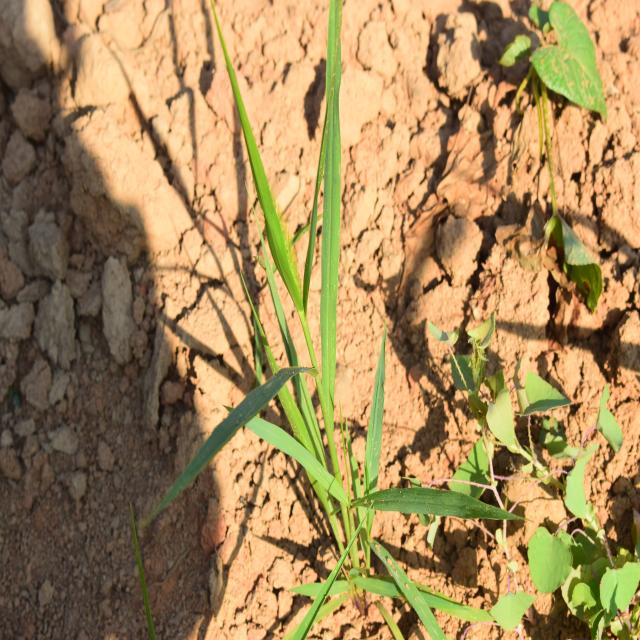green_foxtail: (195, 68, 424, 576)
